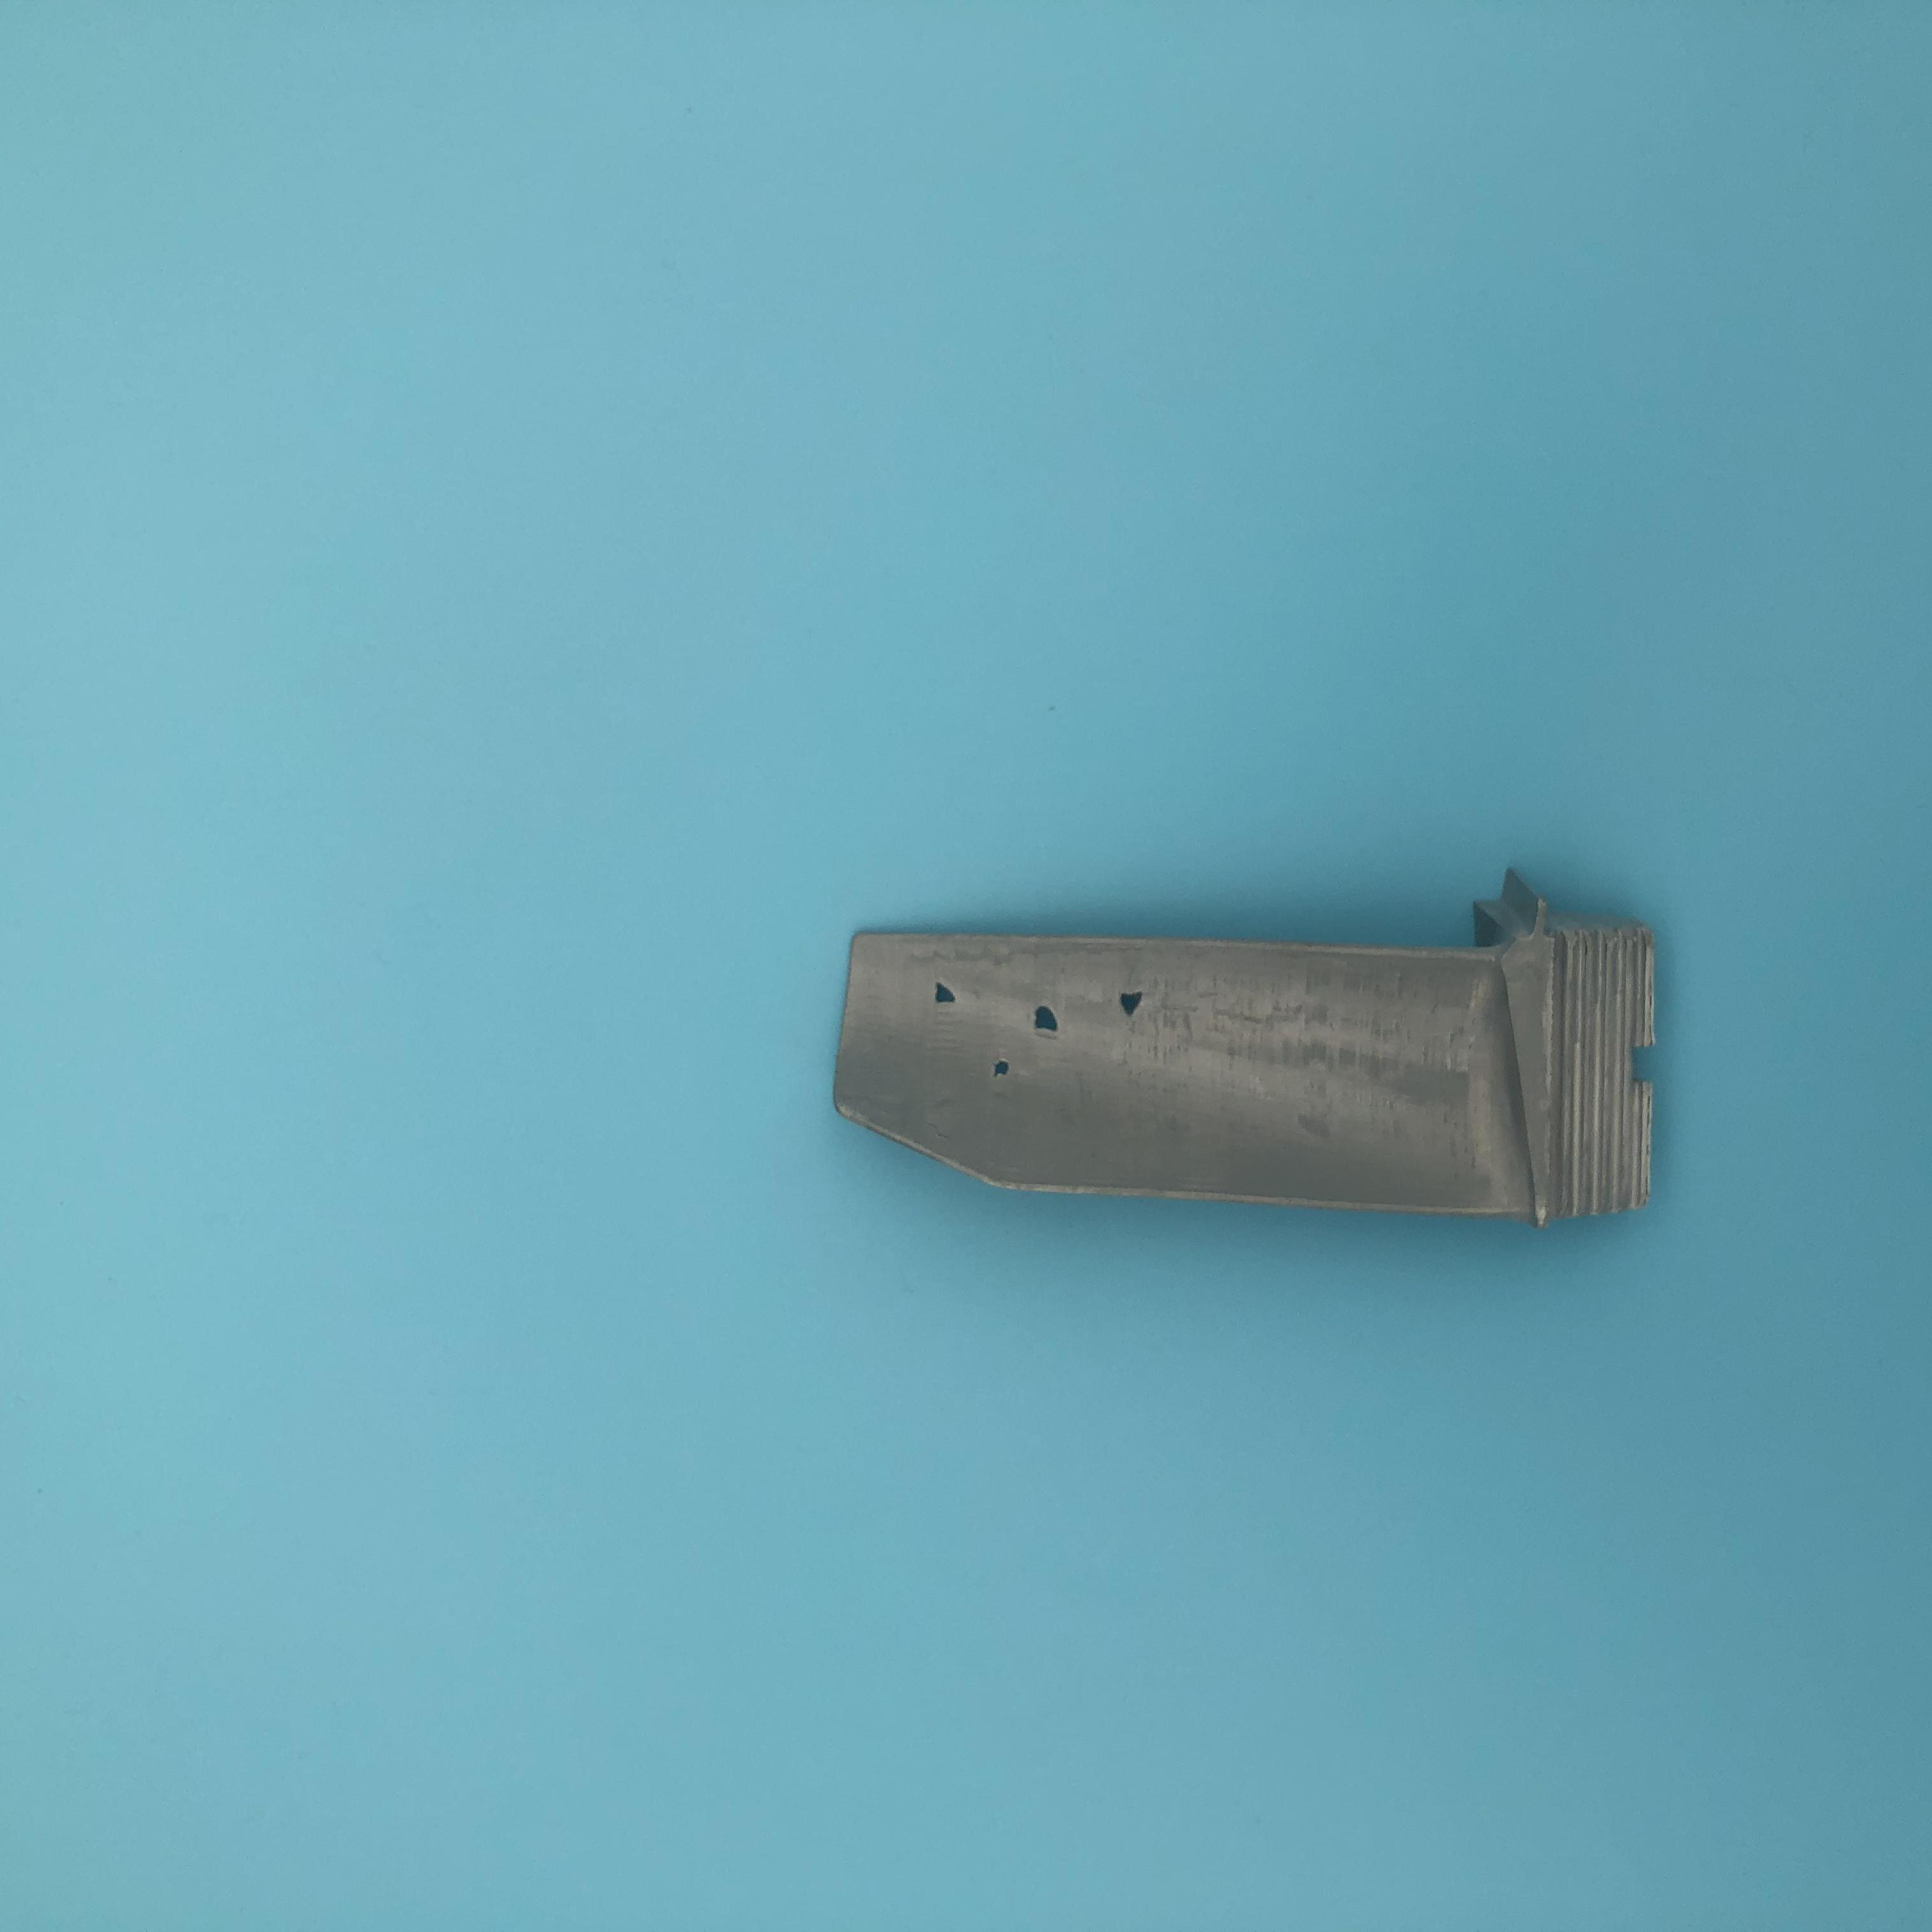breakdown: (927, 984, 1161, 1083)
